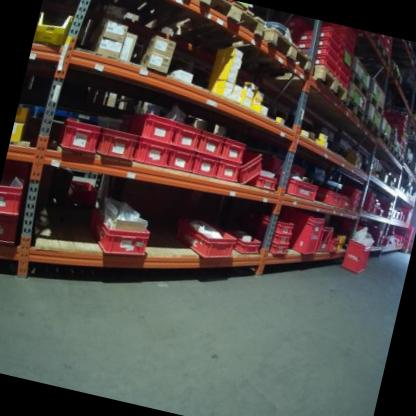pallet: (202, 13, 322, 93), (162, 0, 267, 73), (255, 51, 355, 114), (95, 0, 192, 44), (347, 33, 396, 71), (340, 100, 367, 130), (355, 115, 383, 143), (347, 71, 372, 99), (363, 93, 390, 118), (371, 130, 393, 150), (379, 144, 400, 162), (395, 155, 406, 170), (409, 130, 416, 142)
small_load_carrier: (81, 202, 158, 263), (171, 214, 242, 264), (275, 205, 328, 266), (122, 109, 181, 148), (52, 114, 101, 158), (92, 124, 139, 167), (0, 169, 35, 220), (128, 138, 174, 172), (236, 148, 271, 190), (277, 170, 319, 204), (340, 238, 375, 278), (228, 224, 265, 260), (171, 122, 205, 154), (257, 212, 294, 238), (197, 129, 228, 160), (0, 213, 24, 250), (167, 148, 199, 175), (221, 135, 247, 165), (194, 155, 223, 181), (316, 188, 348, 210), (316, 222, 335, 256), (255, 230, 292, 247), (313, 25, 343, 45), (218, 161, 241, 184), (311, 45, 340, 62), (313, 57, 337, 74), (255, 176, 278, 193), (297, 25, 317, 44), (343, 183, 366, 199), (268, 243, 290, 257), (313, 41, 340, 51), (326, 236, 340, 254), (296, 41, 313, 53), (343, 195, 361, 206), (348, 204, 361, 214)
